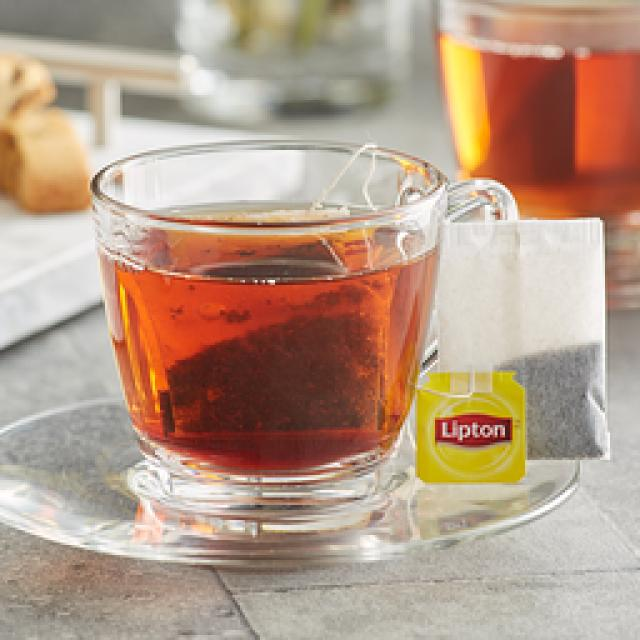tea-bags: (417, 220, 611, 484), (121, 260, 390, 437)
